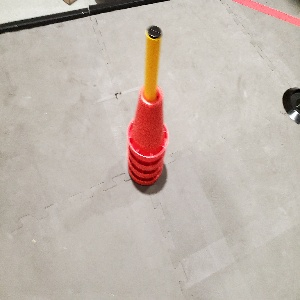Red_4: (125, 83, 169, 191)
